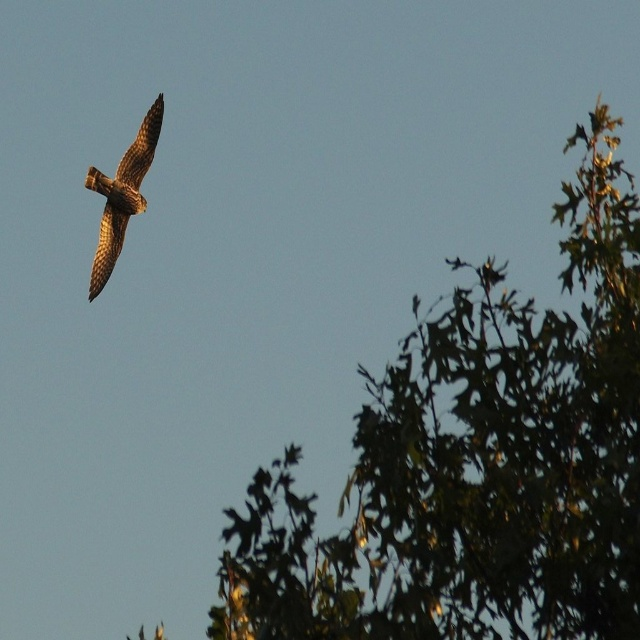Eagle: (76, 90, 160, 315)
